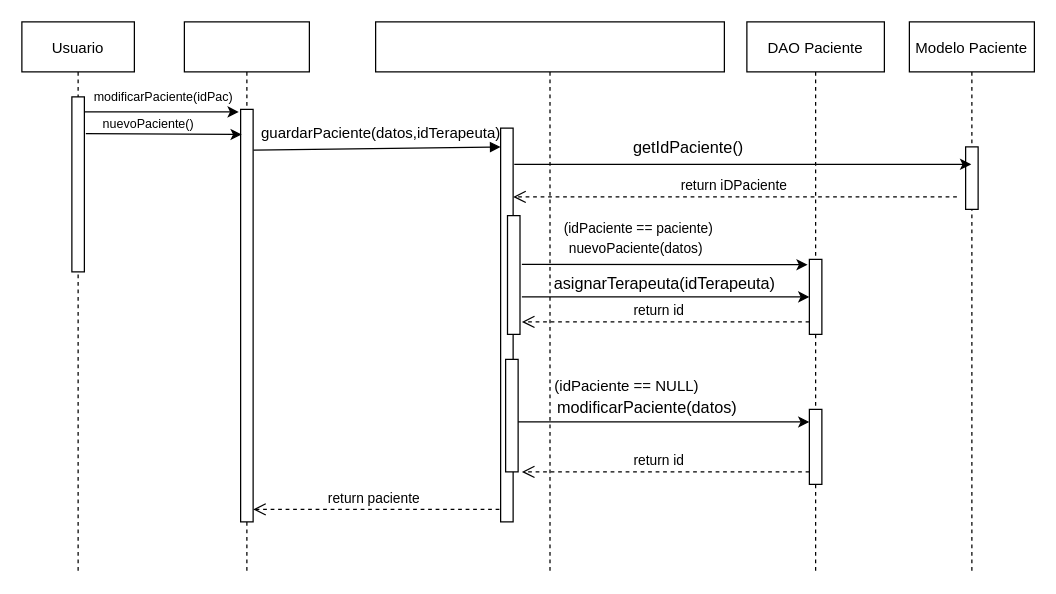
The diagram is 1056 pixels wide and 594 high, and some of its shapes have lost their labels. The box of each missing label's shape, as (x1, y1, x2, y2) in pixels:
Controlador Paciente: (374, 21, 724, 572)
Formulario datos paciente: (183, 21, 309, 572)
